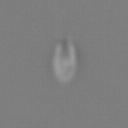normal: (53, 1, 78, 37)
